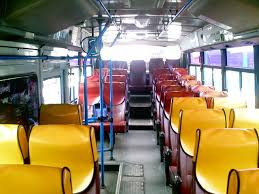seat: (104, 82, 131, 135)
